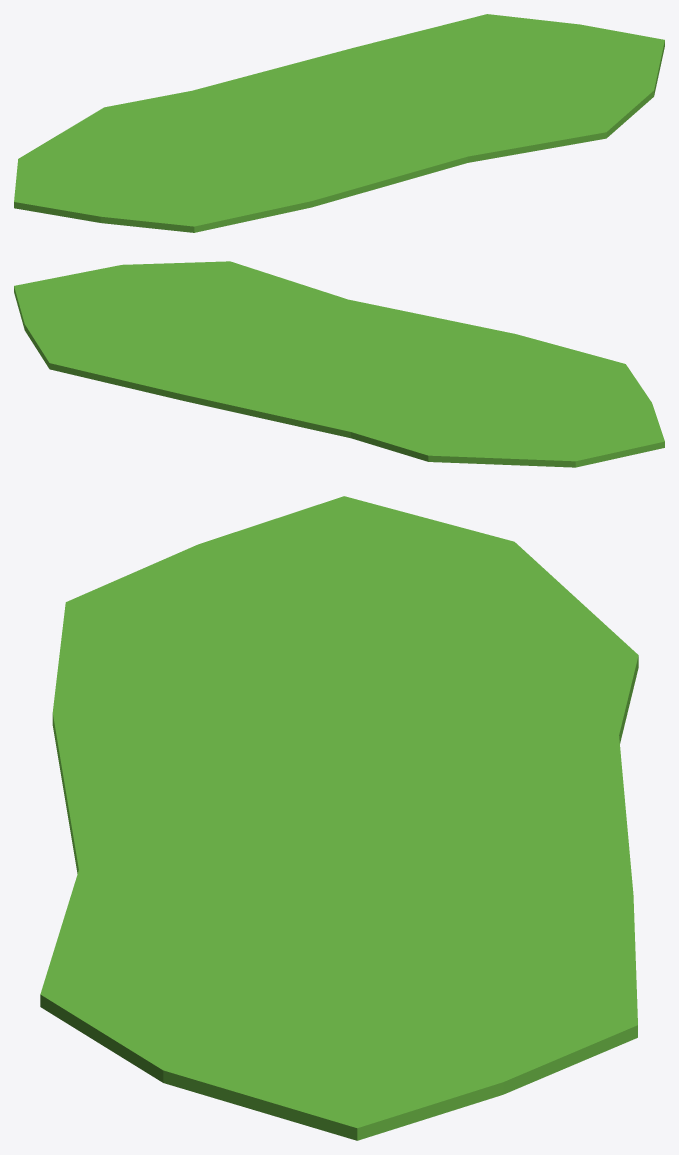
3 views of the same model, one above another, from view 1: azimuth 30°, elevation 25°; view 2: azimuth 150°, elevation 25°; view 3: azimuth 270°, elevation 25° (orthographic). The views are drawn at different scales.
Parts seen in each view (by area): view 1: Patch; view 2: Patch; view 3: Patch.
Part boxes in pixels (bbox=[...]): Patch: bbox=[14, 14, 664, 232]; Patch: bbox=[14, 261, 664, 467]; Patch: bbox=[40, 496, 638, 1140].
Bounding box in the file's own units: 12.91 × 0.12 × 5.16.
